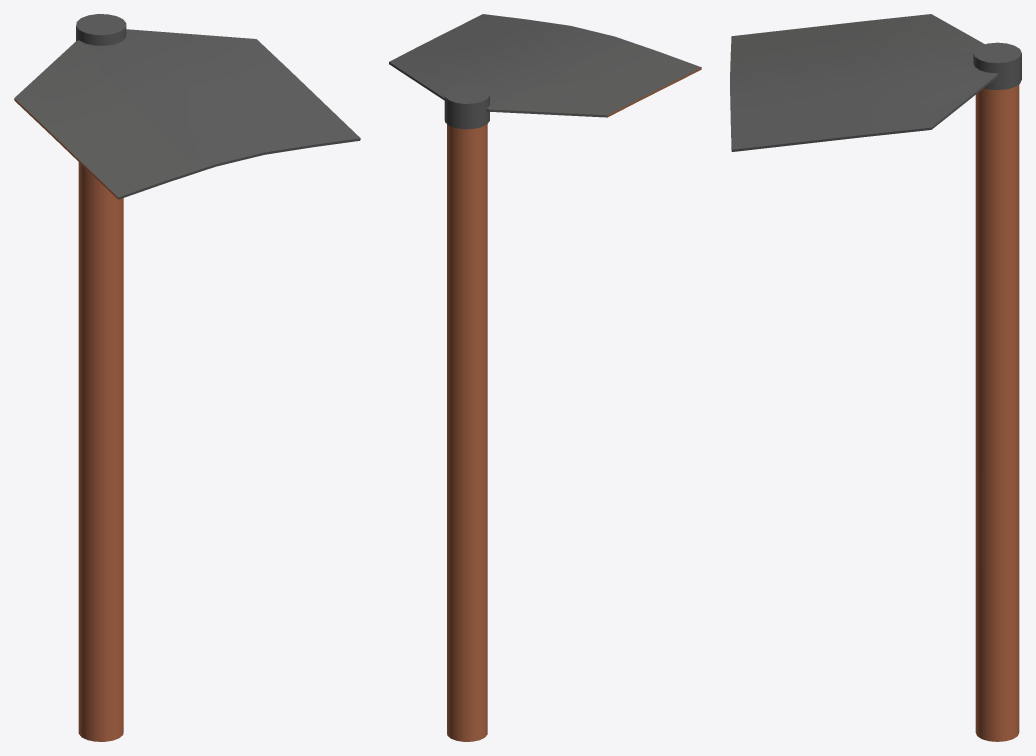
The model's file is tuinier schep.fbx.
3 views of the same model, side by side, from view 1: azimuth 30°, elevation 25°; view 2: azimuth 150°, elevation 25°; view 3: azimuth 270°, elevation 25° (orthographic). The views are drawn at different scales.
Parts seen in each view (by area): view 1: Plane; view 2: Plane; view 3: Plane.
Boxes of the visible parts, x1,y1,x2,y2 form: Plane: (14, 14, 360, 741); Plane: (389, 14, 701, 741); Plane: (730, 14, 1021, 741).
Bounding box in the file's own units: 0.3594 × 1 × 0.3897.
